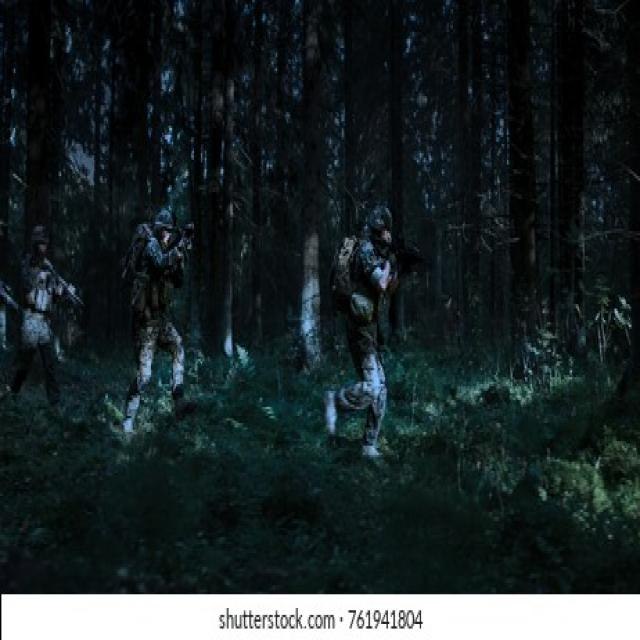Forest: (0, 0, 640, 593)
Militant: (312, 197, 416, 473), (114, 195, 207, 443), (11, 216, 86, 432)
